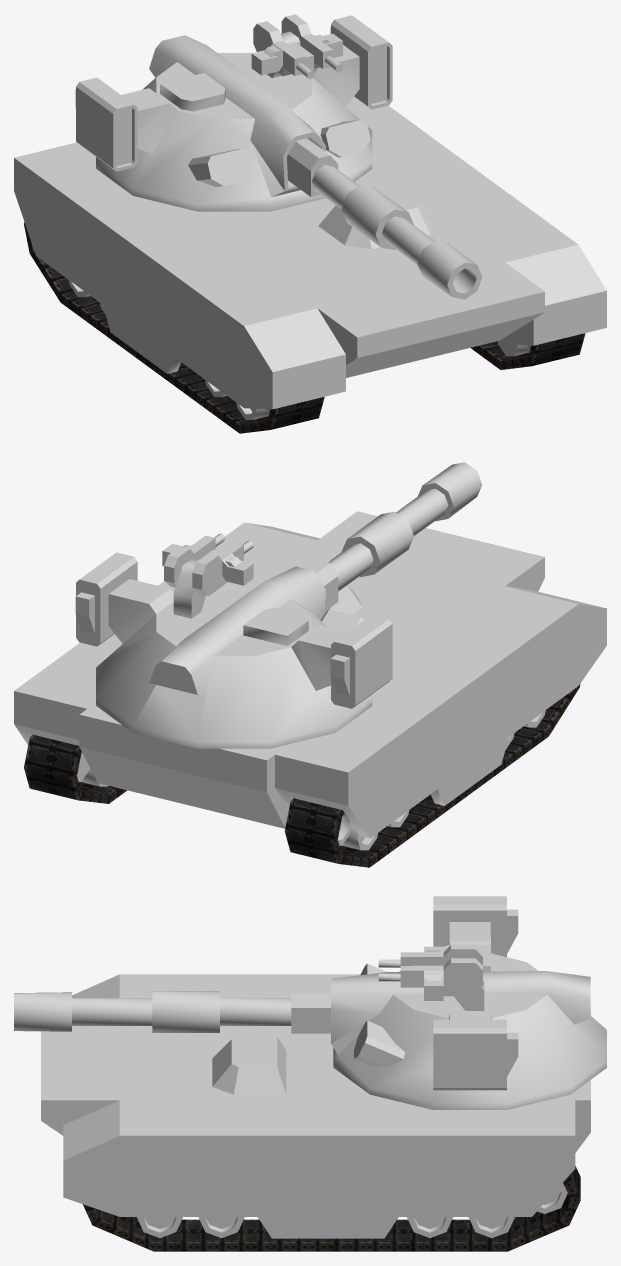
3 views of the same model, one above another, from view 1: azimuth 30°, elevation 25°; view 2: azimuth 150°, elevation 25°; view 3: azimuth 270°, elevation 25° (orthographic).
Visible parts, largest first — view 1: U3DMesh; view 2: U3DMesh; view 3: U3DMesh.
Part boxes in pixels (bbox=[...]): U3DMesh: bbox=[14, 14, 606, 433]; U3DMesh: bbox=[14, 462, 606, 867]; U3DMesh: bbox=[14, 896, 606, 1251].
Bounding box in the file's own units: 36.21 × 25.57 × 56.19.
